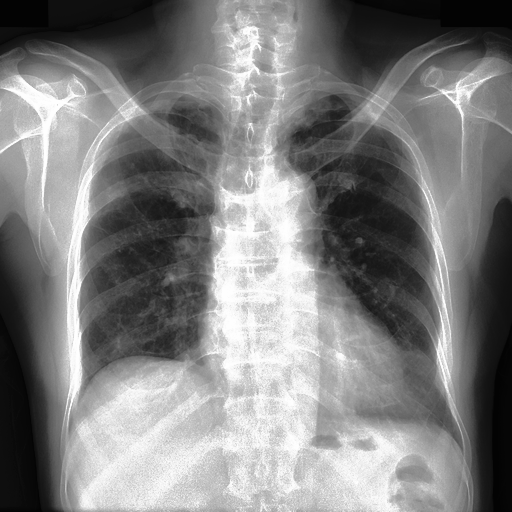Calcification: (275, 85, 395, 152), (129, 89, 225, 119), (345, 92, 403, 138)
Consolidation: (254, 166, 316, 229)
Nodule/Mass: (196, 308, 405, 417)
Pleural thickening: (85, 107, 213, 361), (377, 165, 410, 195)
Pneumothorax: (86, 121, 207, 215), (291, 102, 359, 130), (97, 243, 180, 258), (112, 182, 142, 199), (90, 222, 111, 236)
